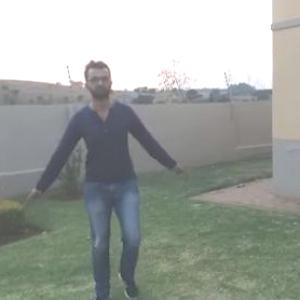land: (30, 62, 179, 292)
